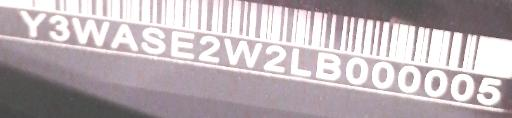letter: (70, 14, 112, 47), (224, 35, 262, 69), (16, 8, 48, 39), (108, 22, 140, 53), (476, 74, 506, 107), (167, 28, 197, 60), (314, 49, 342, 81), (46, 12, 74, 43), (140, 24, 168, 55), (396, 63, 422, 96), (422, 65, 448, 98), (262, 41, 286, 75), (370, 58, 396, 89), (450, 70, 474, 103), (288, 46, 312, 78), (344, 56, 368, 88), (196, 33, 220, 63)
